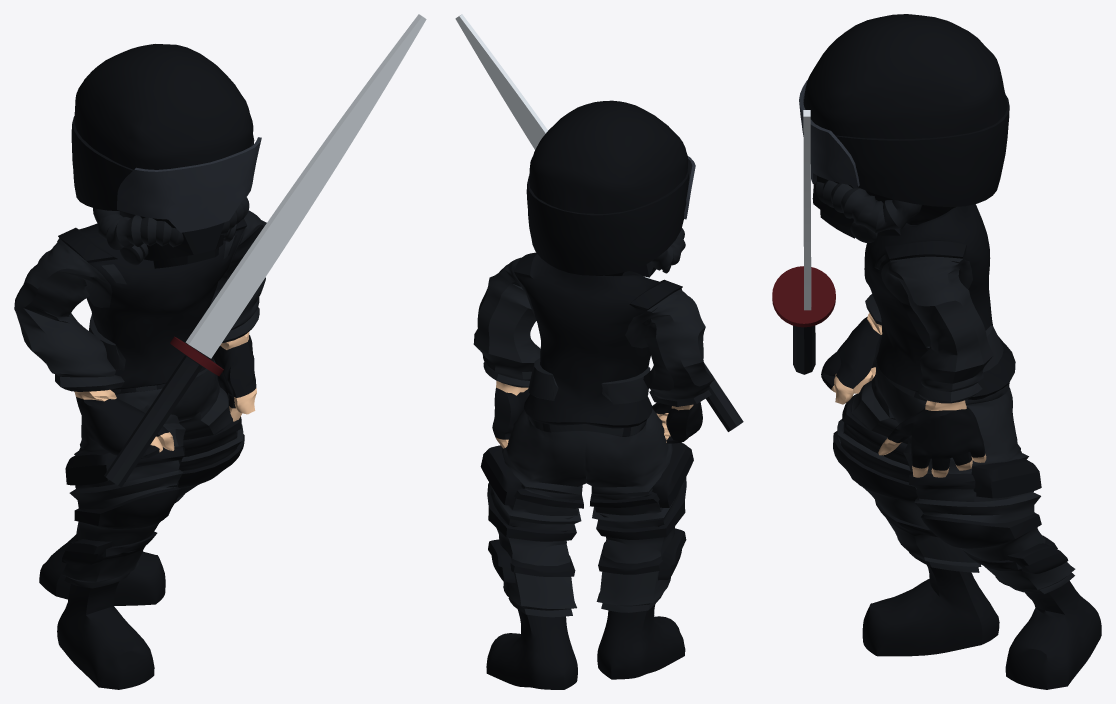
File: av-ninja-dojo.glb
The picture shows the model from 3 angles, left to right: view 1: azimuth 30°, elevation 25°; view 2: azimuth 150°, elevation 25°; view 3: azimuth 270°, elevation 25°; orthographic projection. The views are drawn at different scales.
Parts seen in each view (by area): view 1: Ad_katana_0_0; view 2: Ad_katana_0_0; view 3: Ad_katana_0_0.
Boxes of the visible parts, x1=… form: Ad_katana_0_0: x1=14, y1=14, x2=426, y2=689; Ad_katana_0_0: x1=455, y1=14, x2=743, y2=689; Ad_katana_0_0: x1=772, y1=14, x2=1101, y2=689.
Size of the model in its own units: 0.8173 by 1.43 by 0.6373.
